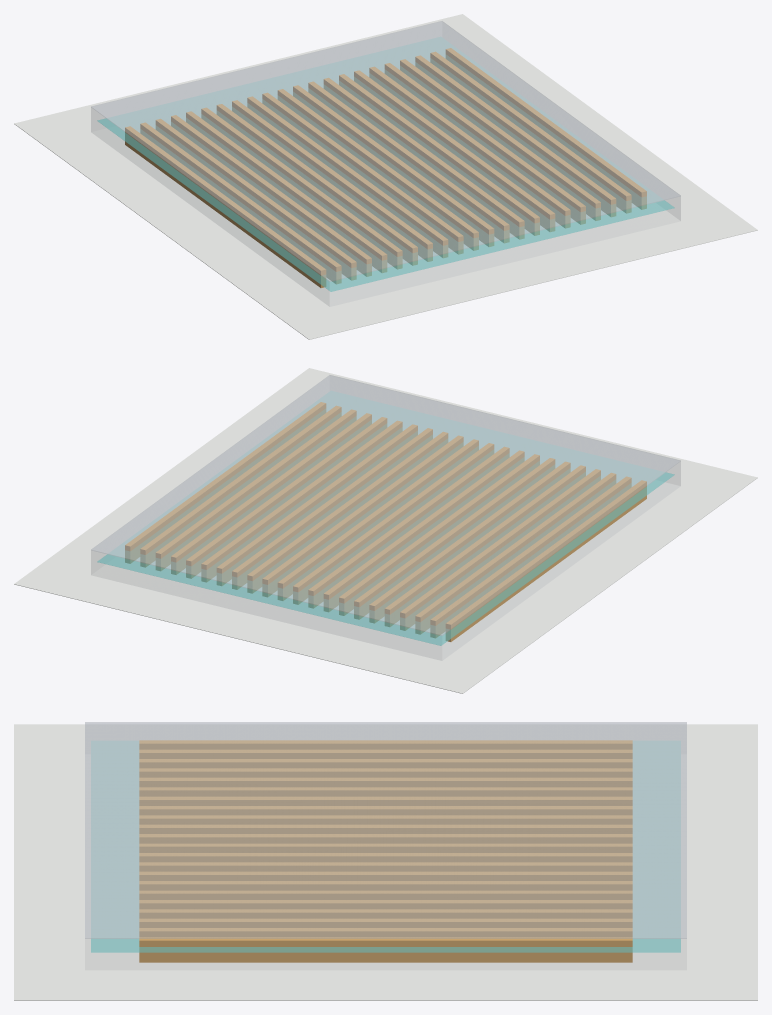
3 views of the same model, one above another, from view 1: azimuth 30°, elevation 25°; view 2: azimuth 150°, elevation 25°; view 3: azimuth 270°, elevation 25° (orthographic). The views are drawn at different scales.
Visible parts, largest first — view 1: ROOF-B-1, GROUND, SPRINKLER_DESIGN_PLANE, B-1, RACK-01, RACK-02, RACK-10, RACK-06, RACK-13, RACK-17, RACK-21, RACK-18 (+14 smaller); view 2: ROOF-B-1, GROUND, SPRINKLER_DESIGN_PLANE, B-1, RACK-01, RACK-02, RACK-10, RACK-06, RACK-13, RACK-17, RACK-21, RACK-18 (+14 smaller); view 3: ROOF-B-1, GROUND, B-1, SPRINKLER_DESIGN_PLANE, RACK-22, RACK-05, RACK-01, RACK-04, RACK-06, RACK-09, RACK-11, RACK-14 (+14 smaller).
Part boxes in pixels (box(x1,y1,x2,y2)): ROOF-B-1: box(91, 21, 680, 281); GROUND: box(14, 14, 757, 339); SPRINKLER_DESIGN_PLANE: box(97, 37, 674, 291); B-1: box(91, 22, 680, 306); RACK-01: box(125, 126, 326, 287); RACK-02: box(140, 122, 341, 284); RACK-10: box(262, 92, 463, 254); RACK-06: box(201, 107, 402, 269); RACK-13: box(308, 81, 509, 243); RACK-17: box(369, 66, 570, 228); RACK-21: box(430, 51, 631, 213); RACK-18: box(384, 63, 585, 224); ROOF-B-1: box(91, 375, 680, 635); GROUND: box(14, 368, 757, 693); SPRINKLER_DESIGN_PLANE: box(97, 391, 674, 645); B-1: box(91, 376, 680, 660); RACK-01: box(445, 480, 646, 641); RACK-02: box(430, 476, 631, 638); RACK-10: box(308, 446, 509, 608); RACK-06: box(369, 461, 570, 623); RACK-13: box(262, 435, 463, 597); RACK-17: box(201, 420, 402, 582); RACK-21: box(140, 405, 341, 567); RACK-18: box(186, 417, 387, 578); ROOF-B-1: box(85, 722, 686, 938); GROUND: box(14, 724, 757, 1000); B-1: box(85, 723, 686, 969); SPRINKLER_DESIGN_PLANE: box(91, 741, 680, 952); RACK-22: box(139, 937, 632, 962); RACK-05: box(139, 777, 632, 787); RACK-01: box(139, 740, 632, 749); RACK-04: box(139, 768, 632, 777); RACK-06: box(139, 787, 632, 796); RACK-09: box(139, 815, 632, 824); RACK-11: box(139, 834, 632, 843); RACK-14: box(139, 862, 632, 871).
Size of the model in its own units: 230 by 12.8 by 262.
